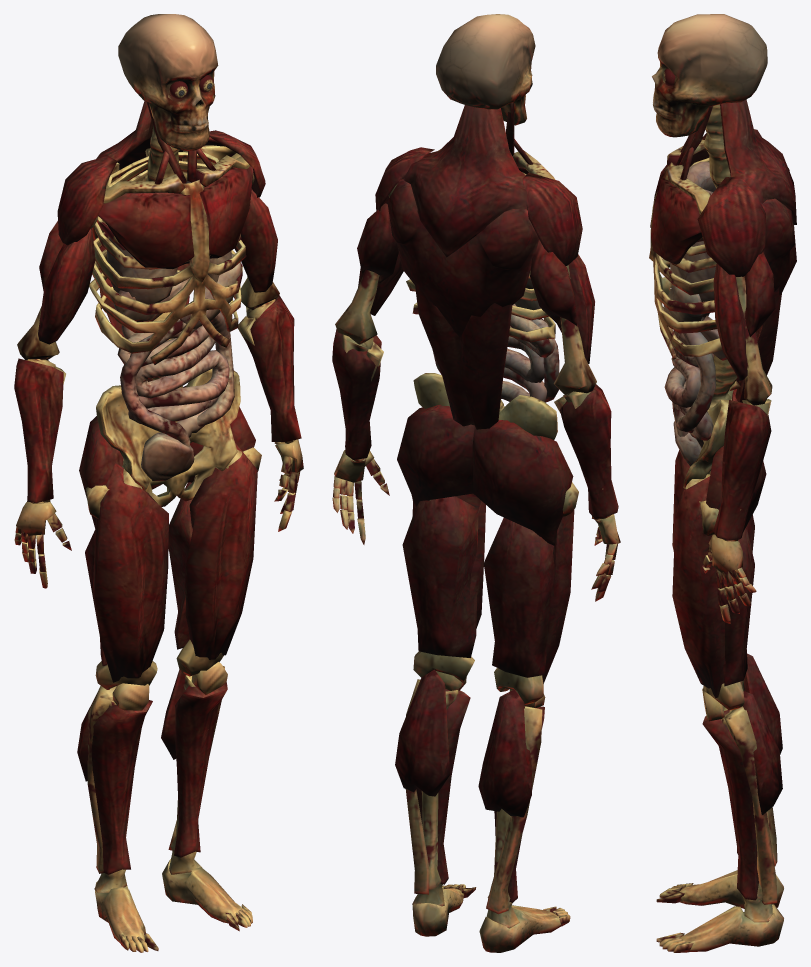
The model's file is skeleton_gore_model.glb.
3 renders of one model, left to right at view 1: azimuth 30°, elevation 25°; view 2: azimuth 150°, elevation 25°; view 3: azimuth 270°, elevation 25°, orthographic.
Visible parts, largest first — view 1: torso1low, torso1up, L_leg, Rleg, skull, brestmuscles, Rightarm, Rlowerleg, L_lowerleg, LeftForearm, RightForearm, Leftarm (+13 smaller); view 2: backmuscles, buttocks, L_leg, Rleg, skull, Rightarm, L_lowerleg, torso1low, Rlowerleg, RightForearm, LeftForearm, Leftarm (+11 smaller); view 3: skull, L_leg, Leftarm, torso1up, backmuscles, torso1low, L_lowerleg, LeftForearm, L_leglowerBone, brestmuscles, L_foot, lefthand (+8 smaller).
Boxes of the visible parts, left/top/right/bottom form: torso1low: left=96, top=312, right=240, bottom=506; torso1up: left=89, top=132, right=250, bottom=364; L_leg: left=168, top=443, right=257, bottom=659; Rleg: left=85, top=462, right=168, bottom=682; skull: left=118, top=14, right=218, bottom=150; brestmuscles: left=98, top=166, right=253, bottom=269; Rightarm: left=38, top=156, right=117, bottom=344; Rlowerleg: left=77, top=686, right=152, bottom=874; L_lowerleg: left=161, top=669, right=227, bottom=857; LeftForearm: left=238, top=295, right=301, bottom=444; RightForearm: left=14, top=358, right=63, bottom=502; Leftarm: left=209, top=130, right=277, bottom=292; backmuscles: left=387, top=105, right=539, bottom=429; buttocks: left=397, top=404, right=573, bottom=545; L_leg: left=402, top=495, right=485, bottom=657; Rleg: left=483, top=510, right=574, bottom=683; skull: left=436, top=14, right=535, bottom=125; Rightarm: left=522, top=172, right=594, bottom=363; L_lowerleg: left=395, top=669, right=470, bottom=884; torso1low: left=413, top=303, right=559, bottom=497; Rlowerleg: left=478, top=689, right=544, bottom=902; RightForearm: left=560, top=384, right=618, bottom=518; LeftForearm: left=332, top=329, right=383, bottom=462; Leftarm: left=357, top=147, right=434, bottom=315; skull: left=652, top=14, right=767, bottom=140; L_leg: left=672, top=476, right=754, bottom=698; Leftarm: left=697, top=177, right=775, bottom=380; torso1up: left=649, top=134, right=762, bottom=359; backmuscles: left=720, top=99, right=796, bottom=402; torso1low: left=664, top=313, right=740, bottom=488; L_lowerleg: left=702, top=691, right=782, bottom=900; LeftForearm: left=713, top=399, right=771, bottom=541; L_leglowerBone: left=702, top=688, right=777, bottom=922; brestmuscles: left=650, top=149, right=709, bottom=264; L_foot: left=656, top=904, right=783, bottom=952; lefthand: left=702, top=534, right=756, bottom=623.
Size of the model in its own units: 64.38 by 194 by 28.73.
Materials: 1 (1 with a texture image).
